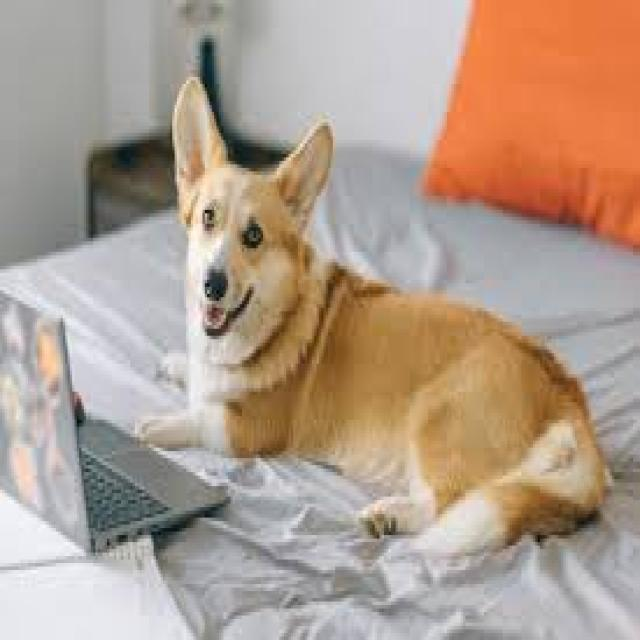CORGI: (154, 71, 623, 575)
